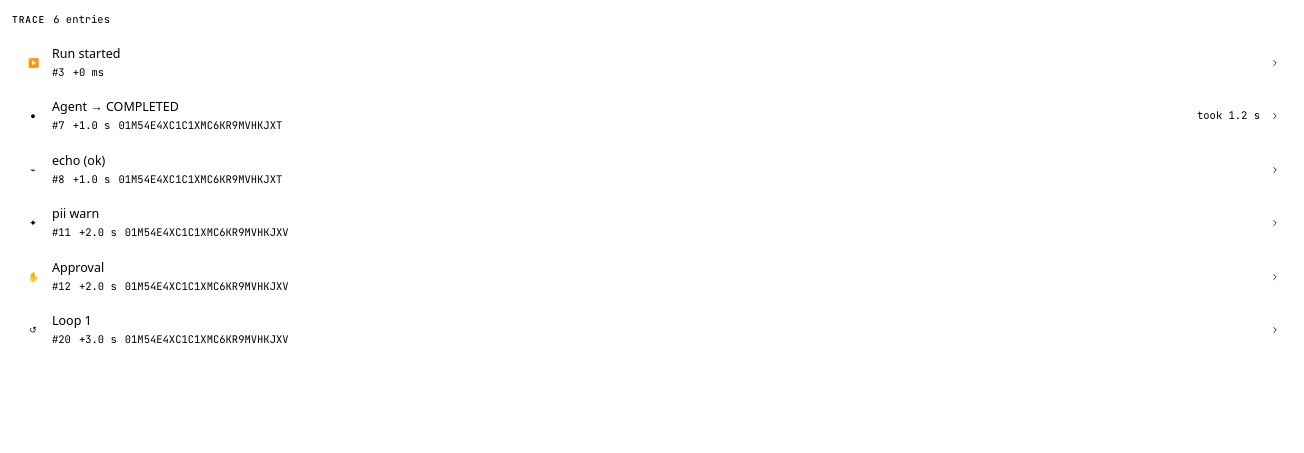
TC-OBS-001 trace view › renders every entry in the API order, with each kind and an expandable detail
The image size is (1304, 453).
Expected: the heading "Trace" is shown, [12,13,45,27]
Expected: the text with test id "trace-count" reads "6 entries", [53,12,110,26]
Click the button "Agent → COMPLETED" at (115, 107), box [12,89,1292,143]
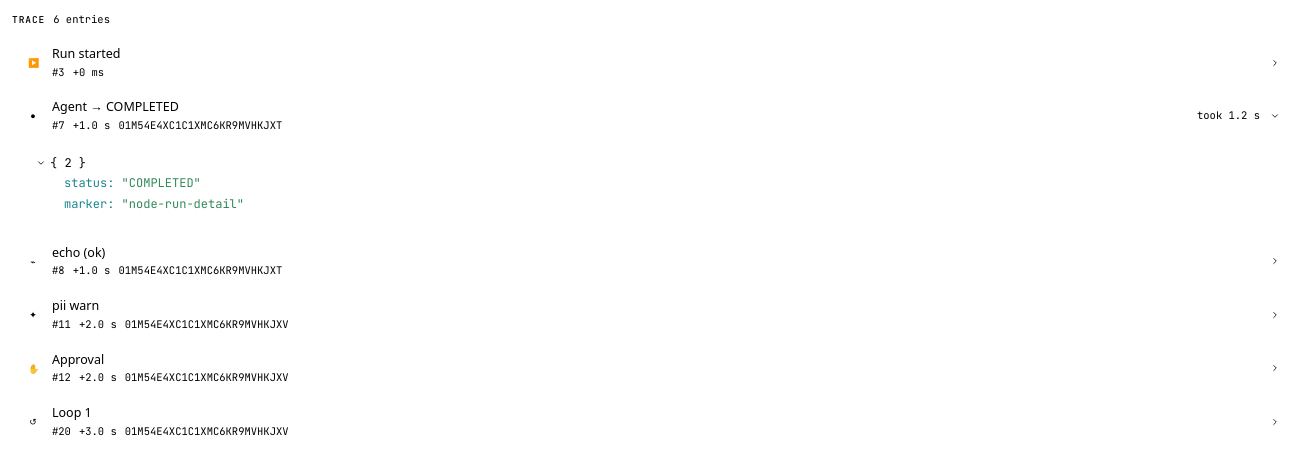
Now the list item with test id "trace-entry-7" shows "node-run-detail", box [122,196,244,212]
